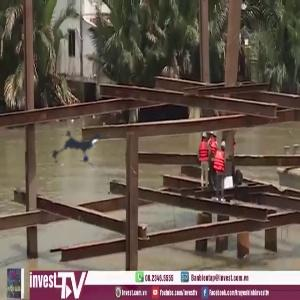drone: (33, 103, 128, 198)
